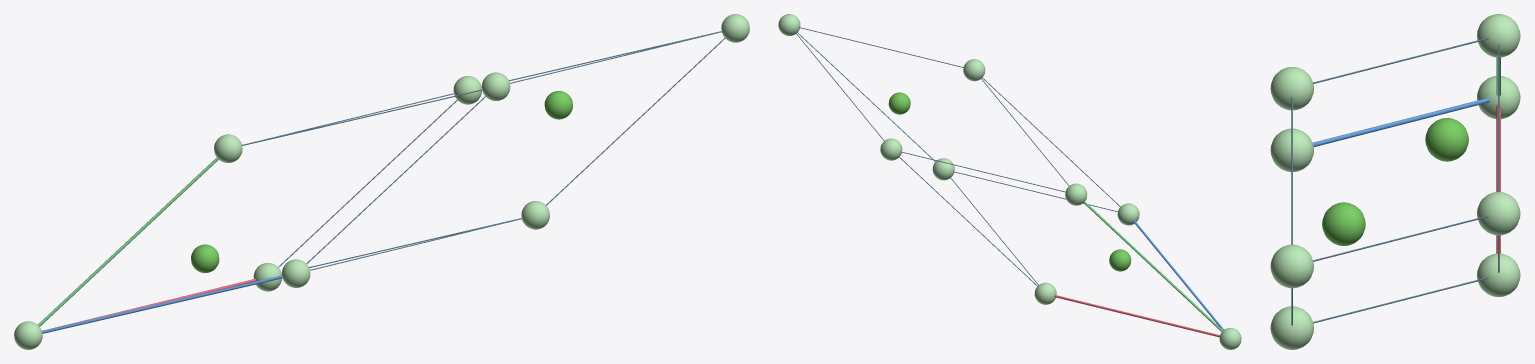
Rendered from chat-cobalt-chloride.glb.
3 views of the same model, side by side, from view 1: azimuth 30°, elevation 25°; view 2: azimuth 150°, elevation 25°; view 3: azimuth 270°, elevation 25° (orthographic). The views are drawn at different scales.
Parts seen in each view (by area): view 1: Ô mạng và các trục a, b, c, Co · Co · 1 (×8), Cl · Cl · 1 (×2); view 2: Ô mạng và các trục a, b, c, Co · Co · 1 (×8), Cl · Cl · 1 (×2); view 3: Co · Co · 1 (×8), Ô mạng và các trục a, b, c, Cl · Cl · 1 (×2).
Boxes of the visible parts, x1,y1,x2,y2 form: Ô mạng và các trục a, b, c: (38,31,725,333); Co · Co · 1 (×8): (14,14,749,349); Cl · Cl · 1 (×2): (191,90,572,273); Ô mạng và các trục a, b, c: (794,27,1224,337); Co · Co · 1 (×8): (778,14,1241,349); Cl · Cl · 1 (×2): (888,92,1131,271); Co · Co · 1 (×8): (1270,14,1520,349); Ô mạng và các trục a, b, c: (1291,38,1500,325); Cl · Cl · 1 (×2): (1322,118,1468,245).
Size of the model in its own units: 17.08 by 5.58 by 3.66.
